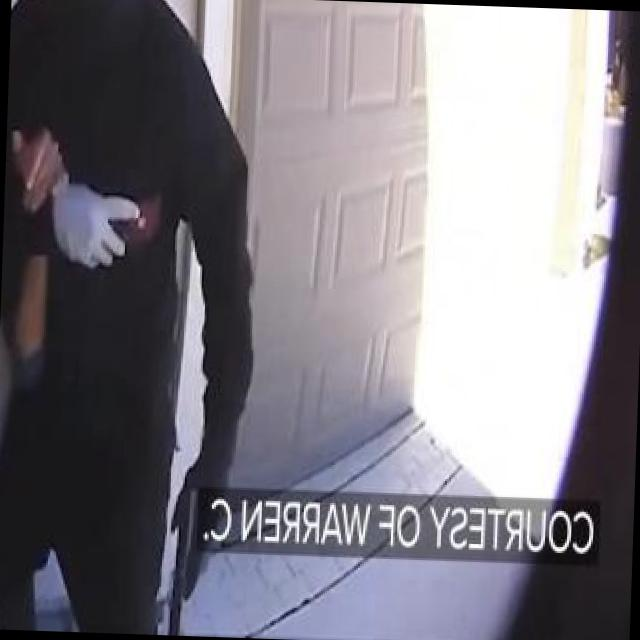Guns: (160, 479, 207, 636)
